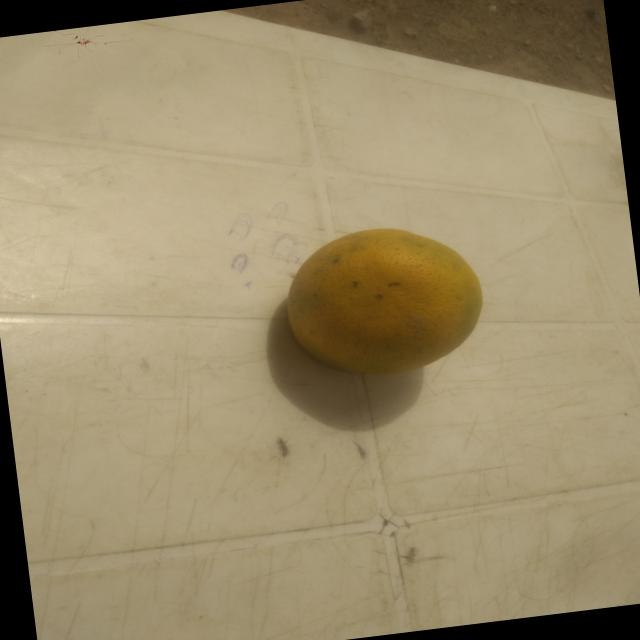agrume: (272, 210, 502, 399)
